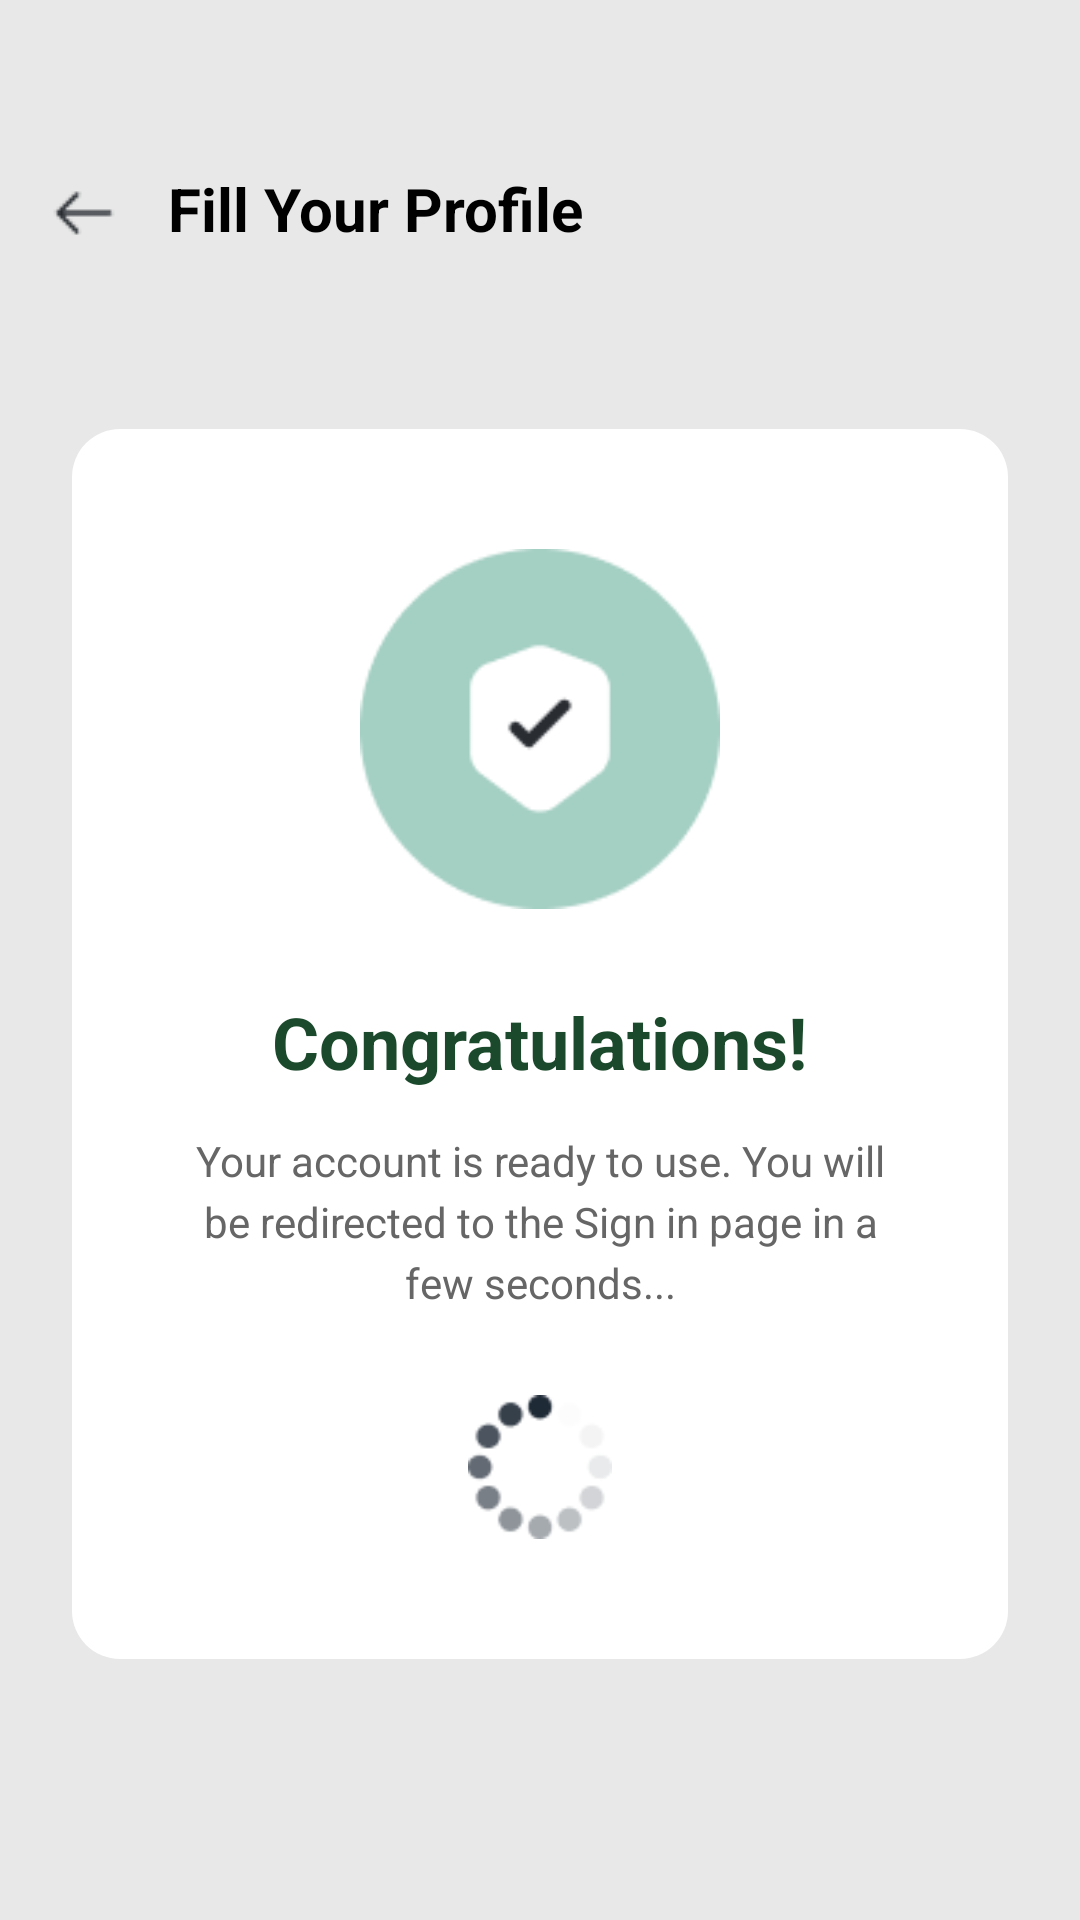

Screen size 1080x1920. Icon name, then its box in pixels as (x1, y1, x2, y2):
Back button: (56, 191, 112, 235)
Loading: (468, 1395, 603, 1539)
Success: (360, 549, 720, 909)
